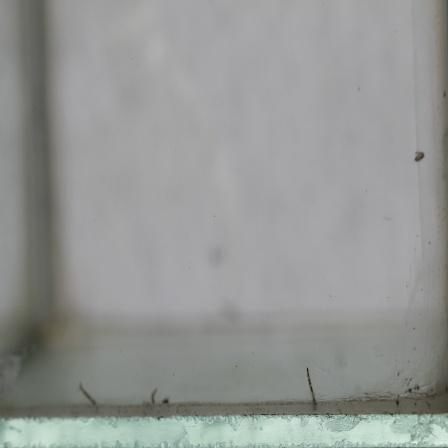Jentik-Nyamuk: (303, 366, 322, 408), (409, 147, 427, 168)
